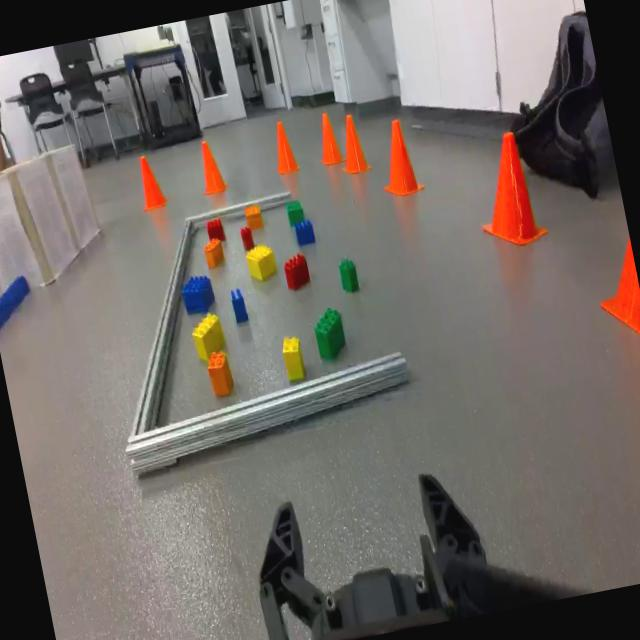block: (192, 313, 226, 360), (246, 244, 277, 280), (283, 337, 306, 385)
blue: (181, 275, 216, 316), (231, 287, 249, 326), (295, 219, 316, 245)
cone: (464, 122, 555, 260), (371, 112, 428, 202), (332, 108, 374, 180), (134, 150, 172, 216), (193, 136, 231, 200), (309, 108, 346, 170), (268, 119, 304, 180)
green: (314, 307, 346, 362), (339, 258, 360, 293), (286, 200, 305, 227)
metal barrier: (125, 187, 413, 476)
orange: (208, 352, 234, 395), (203, 238, 225, 269), (244, 204, 264, 229)
red goal: (283, 252, 311, 291), (207, 217, 227, 240), (240, 227, 255, 249)
storage cube: (0, 155, 79, 293), (46, 144, 103, 252)
